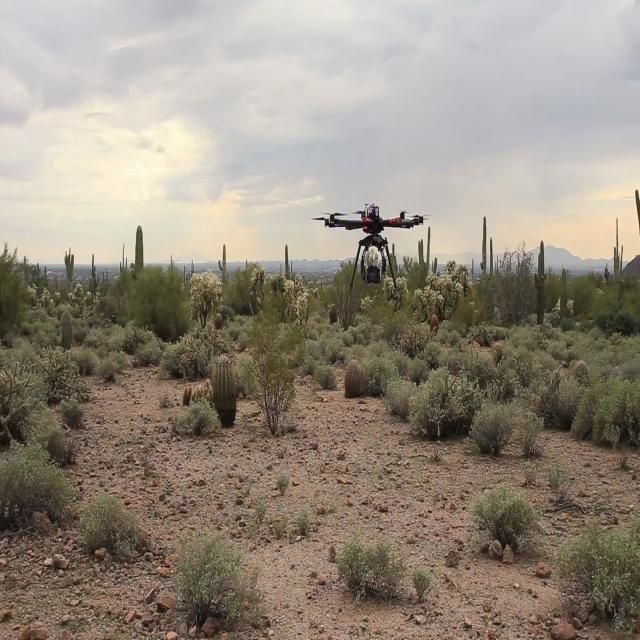drone: (313, 158, 433, 301)
